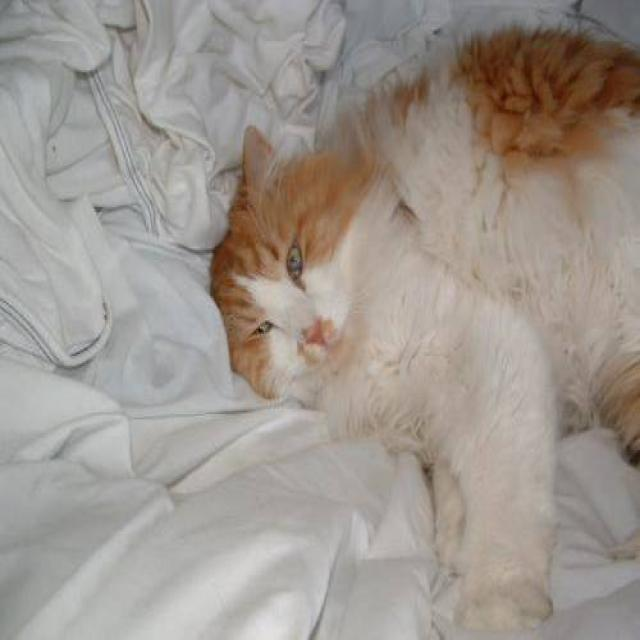cat: (207, 21, 639, 632)
